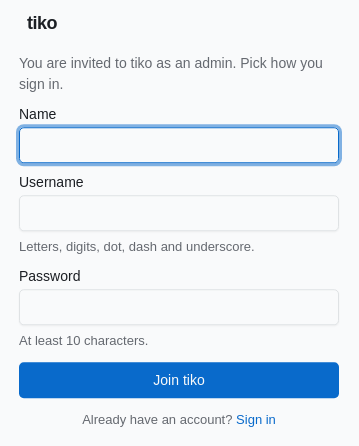
Scenario: signs in from the invite instead of making a new account
The width and height of the screenshot is (359, 446).
Click the button "Sign in" at coordinates (256, 420), box [236, 410, 276, 430]
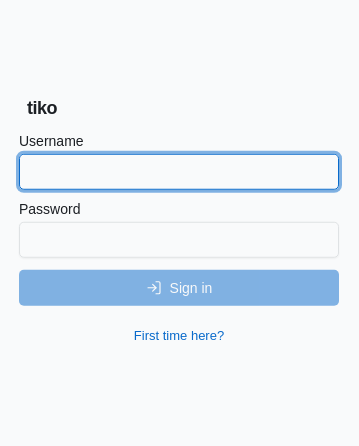
Expected: the button "Sign in" is disabled, [19, 270, 339, 306]
